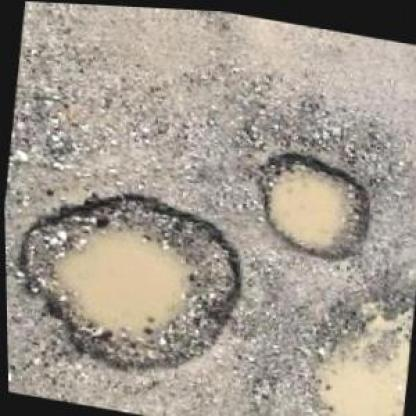pothole: (2, 168, 257, 392), (248, 140, 380, 266)
